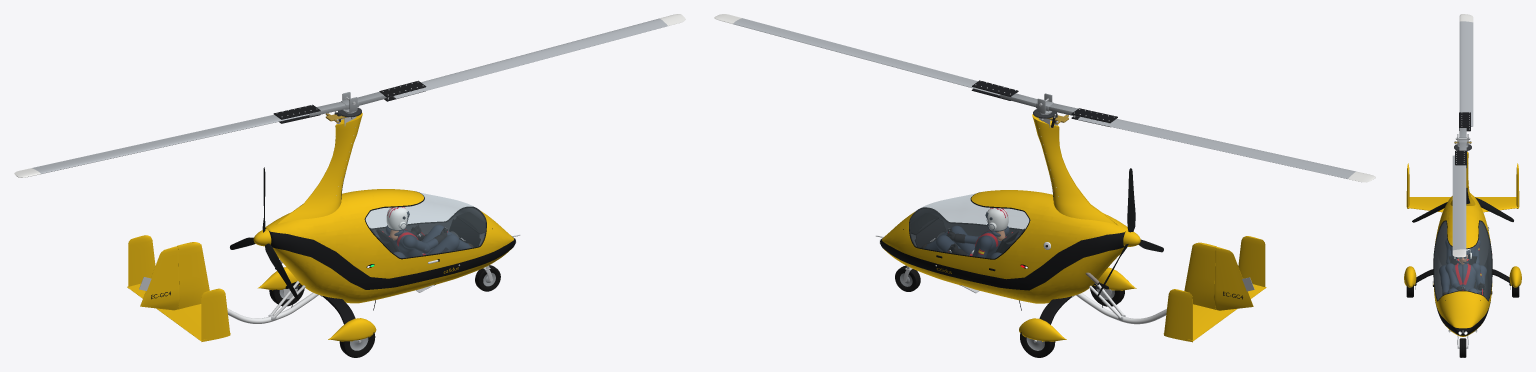
Rendered from calidus.glb.
3 views of the same model, side by side, from view 1: azimuth 30°, elevation 25°; view 2: azimuth 150°, elevation 25°; view 3: azimuth 270°, elevation 25° (orthographic). The views are drawn at different scales.
Visible parts, largest first — view 1: airframe, rotor, windscreen, rudder, prop, pilot_front, wheel_R, nose_wheel; view 2: airframe, rotor, windscreen, rudder, prop, pilot_front, wheel_L, nose_wheel; view 3: airframe, rotor, windscreen, pilot_front, pilot_rear, prop, nose_wheel, pilot_front_armR_up, pilot_front_armL_up.
Boxes of the visible parts, left/top/right/bottom form: airframe: left=127, top=111, right=520, bottom=342; rotor: left=14, top=14, right=685, bottom=177; windscreen: left=366, top=193, right=485, bottom=257; rudder: left=139, top=246, right=180, bottom=310; prop: left=230, top=167, right=298, bottom=298; pilot_front: left=386, top=207, right=425, bottom=257; wheel_R: left=339, top=332, right=375, bottom=357; nose_wheel: left=475, top=265, right=500, bottom=291; airframe: left=876, top=114, right=1266, bottom=342; rotor: left=714, top=14, right=1375, bottom=182; windscreen: left=909, top=193, right=1028, bottom=258; rudder: left=1213, top=247, right=1254, bottom=310; prop: left=1096, top=168, right=1163, bottom=298; pilot_front: left=969, top=208, right=1008, bottom=257; wheel_L: left=1020, top=332, right=1055, bottom=357; nose_wheel: left=895, top=265, right=920, bottom=291; airframe: left=1404, top=151, right=1521, bottom=336; rotor: left=1452, top=14, right=1473, bottom=257; windscreen: left=1434, top=221, right=1491, bottom=300; pilot_front: left=1452, top=249, right=1476, bottom=290; pilot_rear: left=1439, top=239, right=1486, bottom=295; prop: left=1412, top=197, right=1513, bottom=222; nose_wheel: left=1457, top=336, right=1468, bottom=357; pilot_front_armR_up: left=1445, top=263, right=1458, bottom=288; pilot_front_armL_up: left=1472, top=263, right=1485, bottom=290.
Size of the model in its own units: 8.4 by 2.76 by 1.72.
